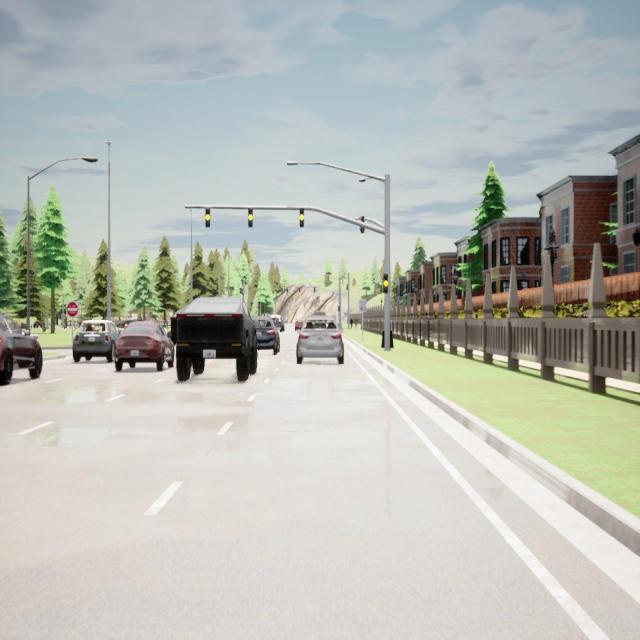Pedestrian: (349, 316, 354, 329), (354, 316, 358, 329)
Traffic_Signs: (66, 300, 80, 318), (359, 299, 368, 312)
Vehicle: (175, 296, 257, 383), (0, 307, 43, 389), (115, 318, 173, 371), (297, 314, 344, 362), (72, 318, 116, 364), (252, 316, 280, 355), (271, 313, 284, 332), (295, 319, 303, 330)
traffic_light: (382, 274, 388, 294), (248, 208, 253, 228), (360, 216, 365, 233), (206, 208, 210, 228), (300, 208, 304, 226), (285, 283, 289, 294), (298, 284, 301, 293), (313, 286, 316, 294), (337, 306, 340, 312), (346, 284, 349, 290)
